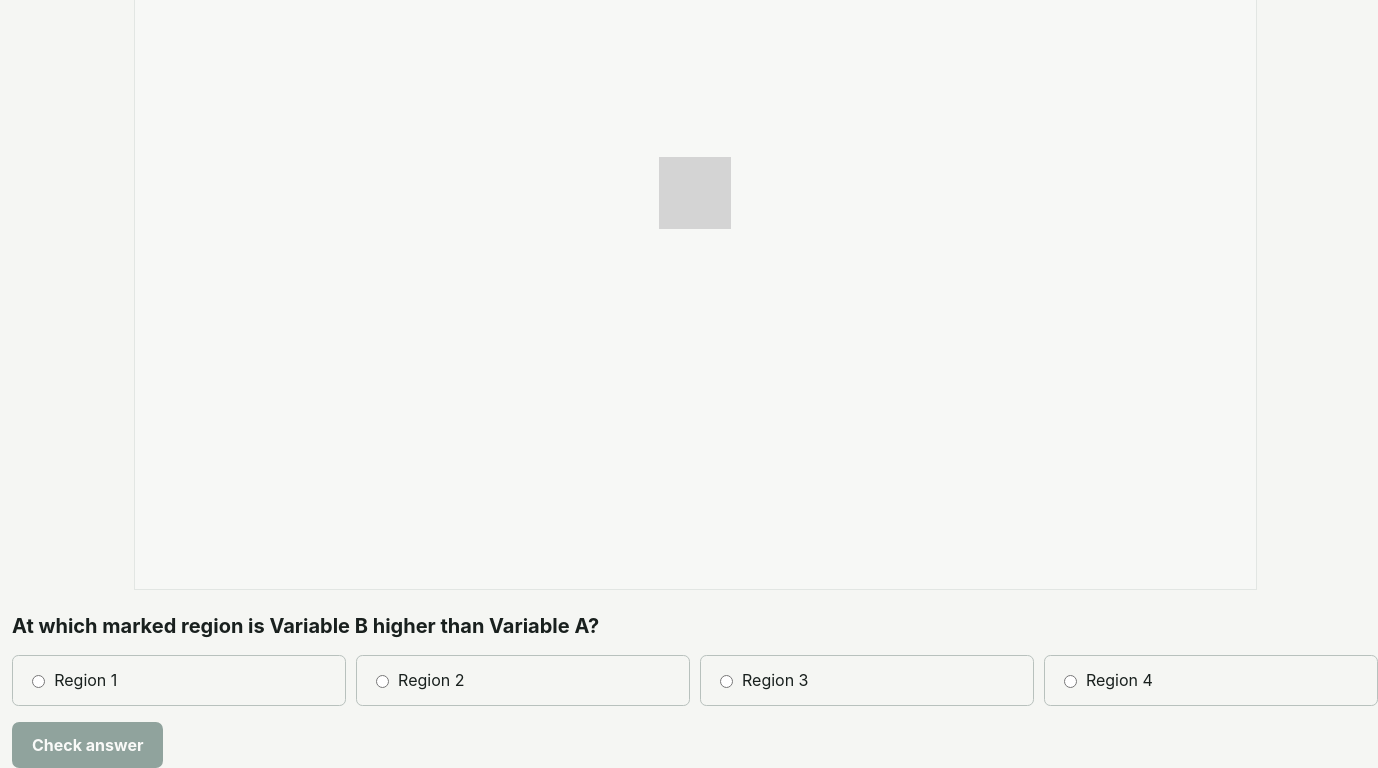
locked training specification › uses the approved Joy asset, wording and Region 3 answer
The image size is (1378, 768).
(page scrolled)
expect the heading "At which marked region is Variable B higher than Variable A?" is shown: met, box [12, 614, 599, 638]
Click the radio button labelled "Region 3" at (727, 682), box [720, 675, 733, 688]
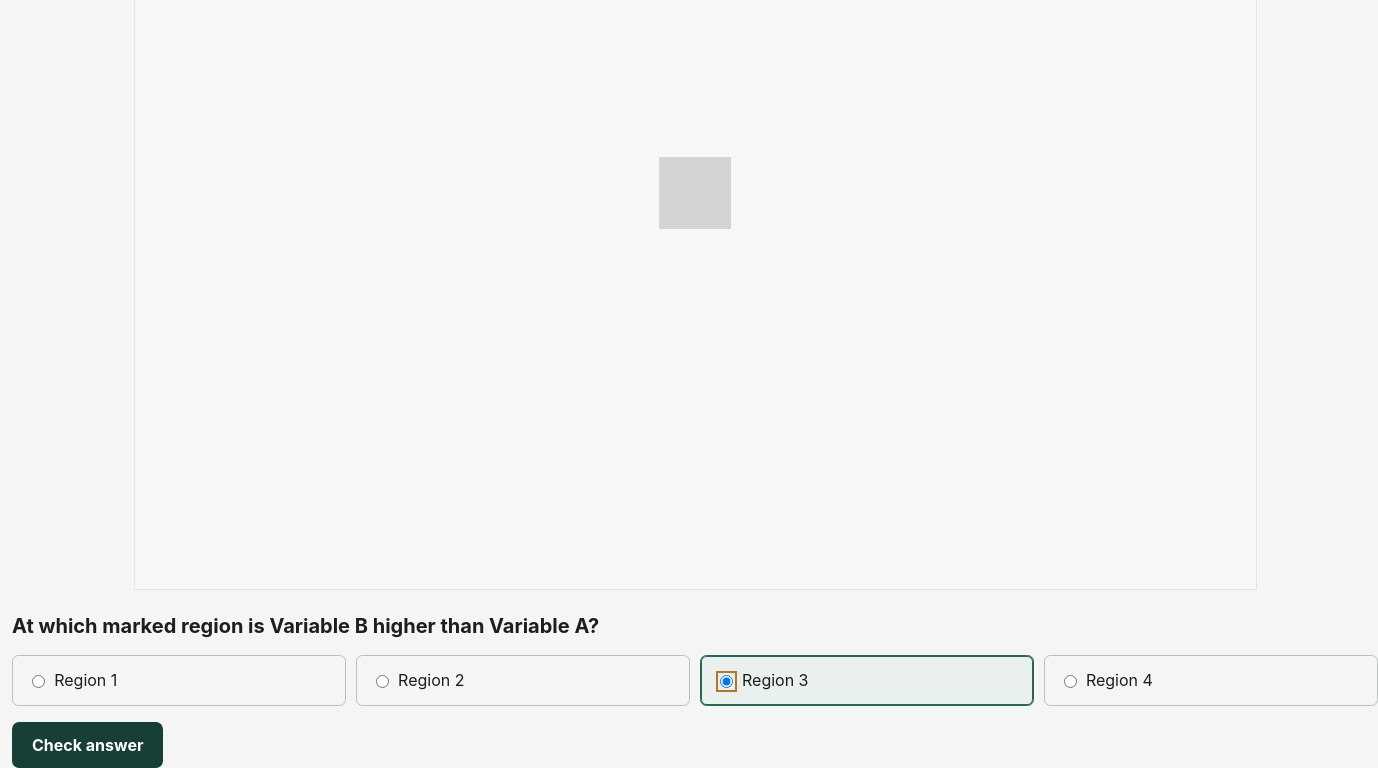
Click the button "Check answer" at (88, 745), box [12, 722, 164, 767]
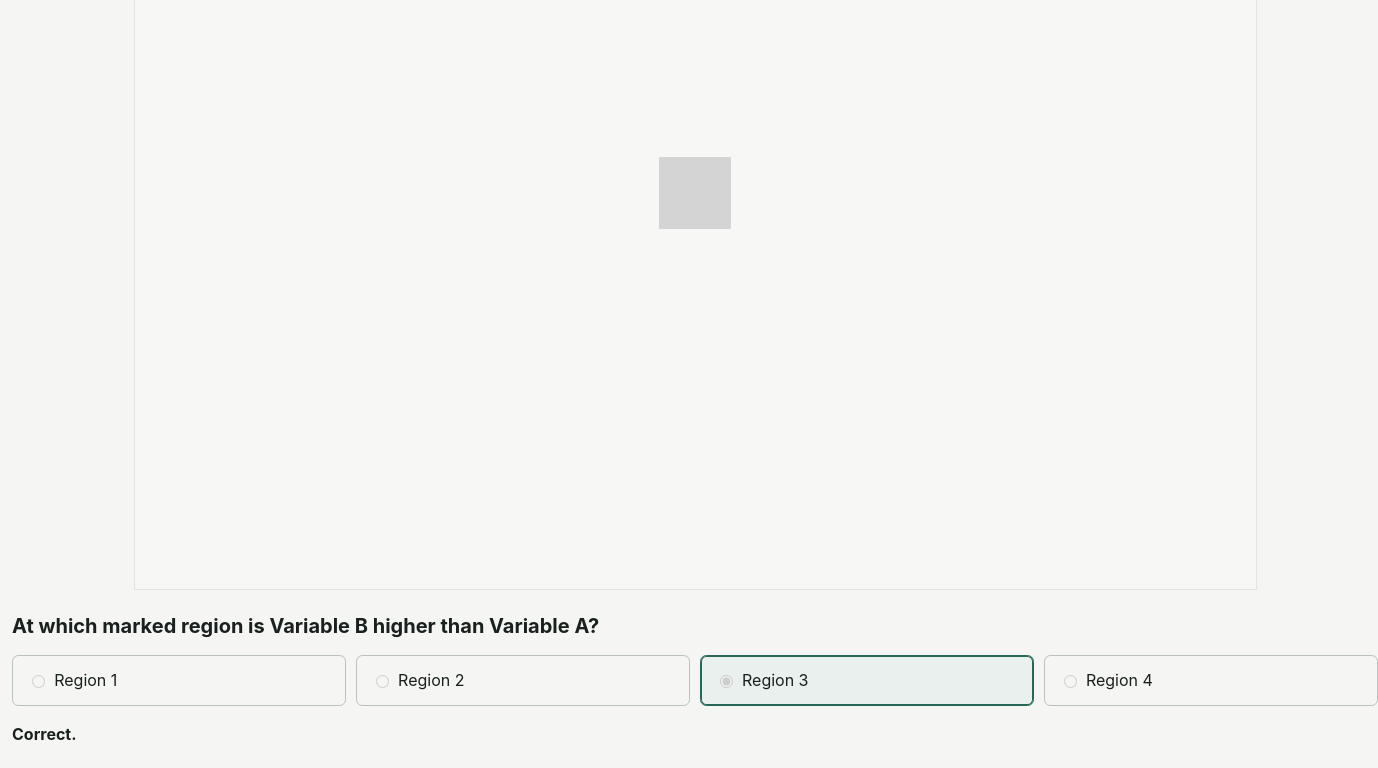
expect the text "Correct." is shown: met, box [12, 724, 77, 744]
